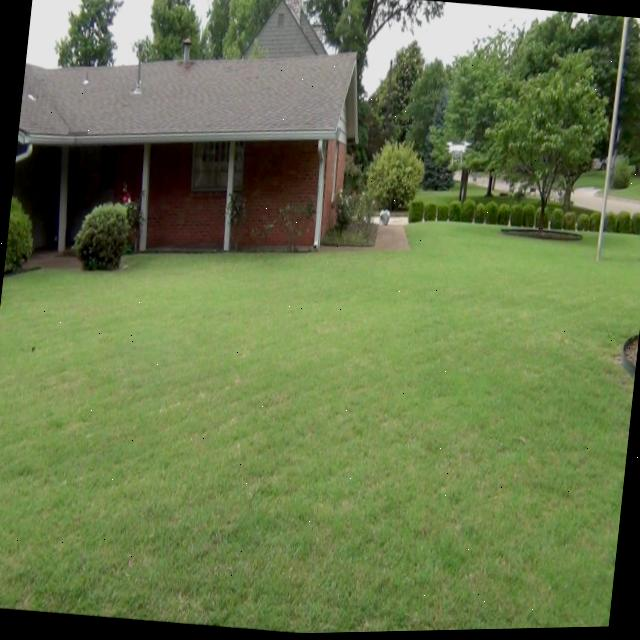drone: (442, 136, 470, 166)
